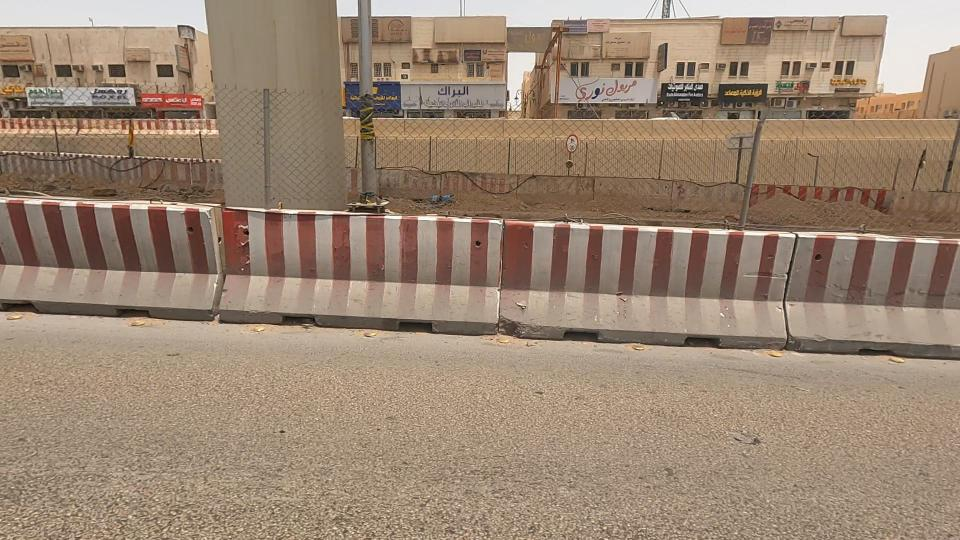BAD_BILLBOARD: (680, 0, 807, 71), (341, 0, 459, 65)
CONSTRUCTION_ROAD: (223, 128, 830, 394), (0, 82, 484, 386), (587, 127, 960, 405)
